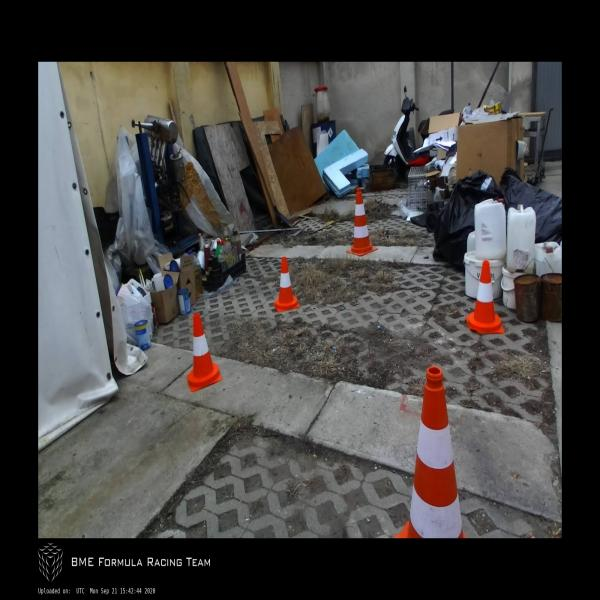large_orange_cone: (394, 367, 470, 538), (347, 188, 377, 255)
orange_cone: (466, 259, 504, 334), (186, 314, 222, 392), (273, 257, 299, 311)
